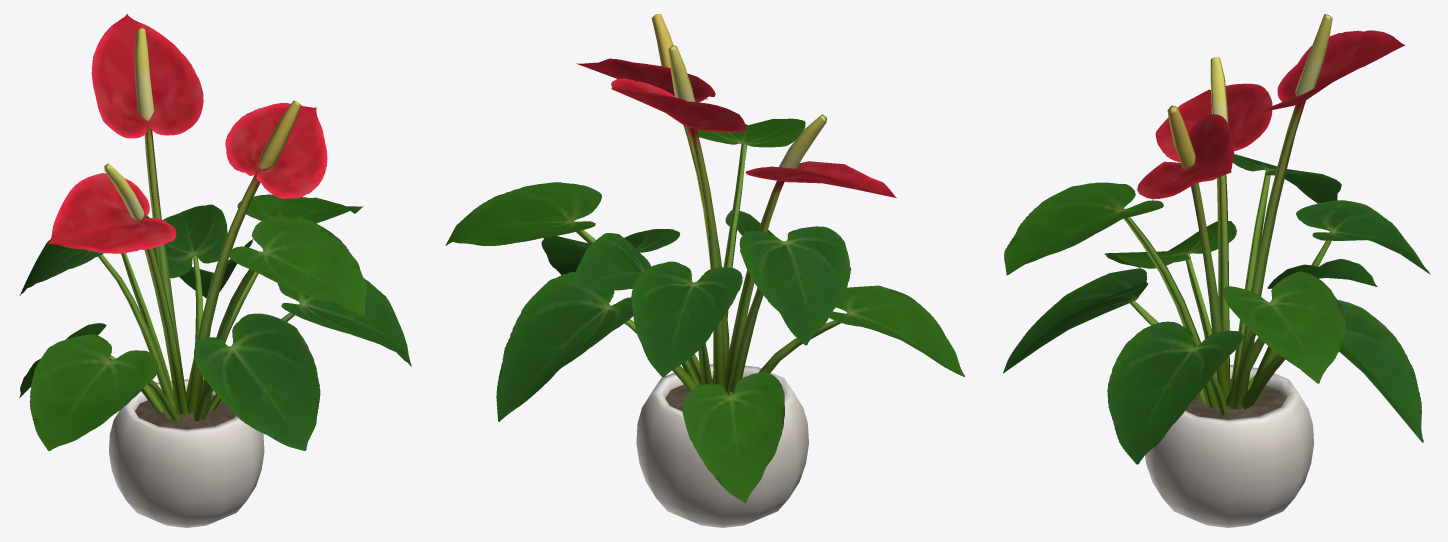
3 views of the same model, side by side, from view 1: azimuth 30°, elevation 25°; view 2: azimuth 150°, elevation 25°; view 3: azimuth 270°, elevation 25° (orthographic). The views are drawn at different scales.
Size of the model in its own units: 9.24 by 9.97 by 7.97.
Materials: 1 (1 with a texture image).
